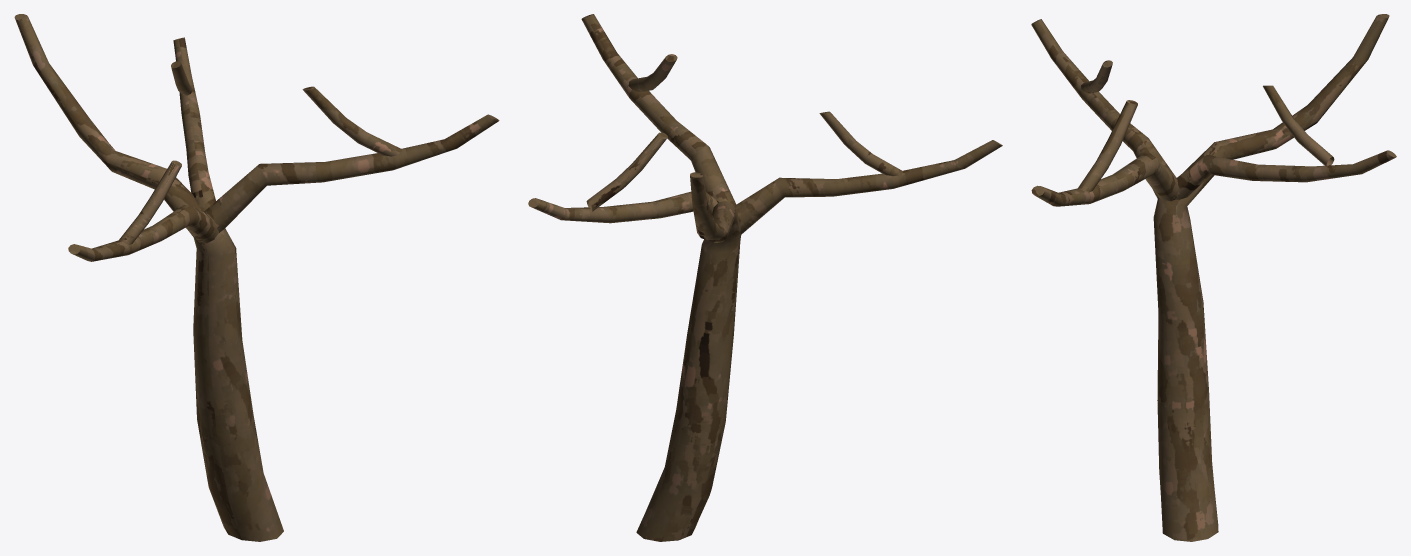
Rendered from DeadTree_2.glb.
The picture shows the model from 3 angles, left to right: view 1: azimuth 30°, elevation 25°; view 2: azimuth 150°, elevation 25°; view 3: azimuth 270°, elevation 25°; orthographic projection. The views are drawn at different scales.
Visible parts, largest first — view 1: DeadTree_2; view 2: DeadTree_2; view 3: DeadTree_2.
Part boxes in pixels (x1,y1,x2,y2): DeadTree_2: (14, 14, 499, 541); DeadTree_2: (528, 14, 1002, 541); DeadTree_2: (1031, 14, 1396, 541).
Size of the model in its own units: 4.6 by 4.83 by 3.54.
1 material, 1 textured.
